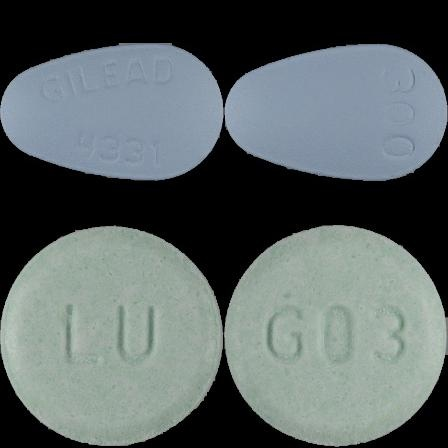50090-0754: (0, 0, 224, 224)
